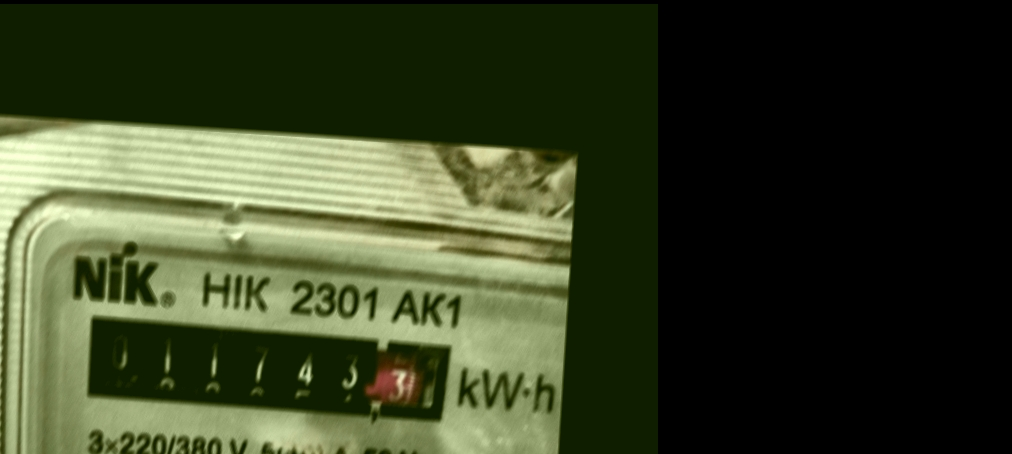0: (106, 333, 131, 373), (156, 335, 177, 377)
1: (203, 339, 221, 381)
3: (337, 351, 360, 395), (385, 367, 407, 406)
4: (293, 348, 315, 389)
7: (246, 342, 271, 387)
screen: (65, 303, 459, 435)
